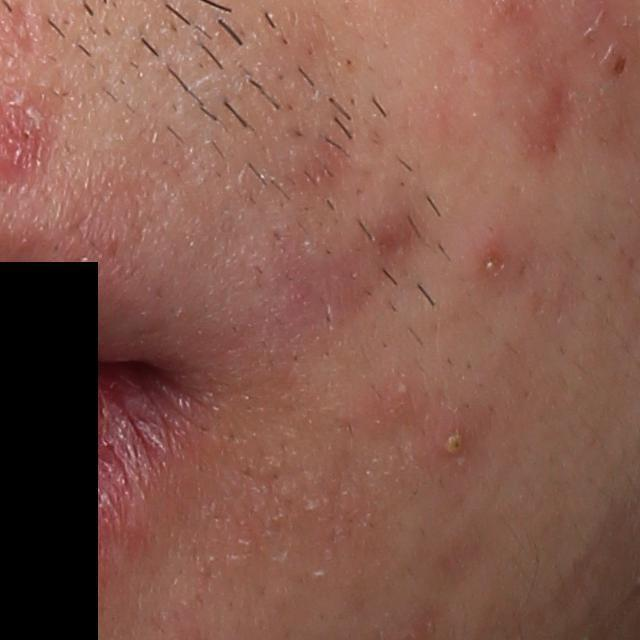atrophic_scar: (5, 3, 32, 57)
papule: (478, 241, 510, 278)
pustule: (434, 418, 474, 462)
